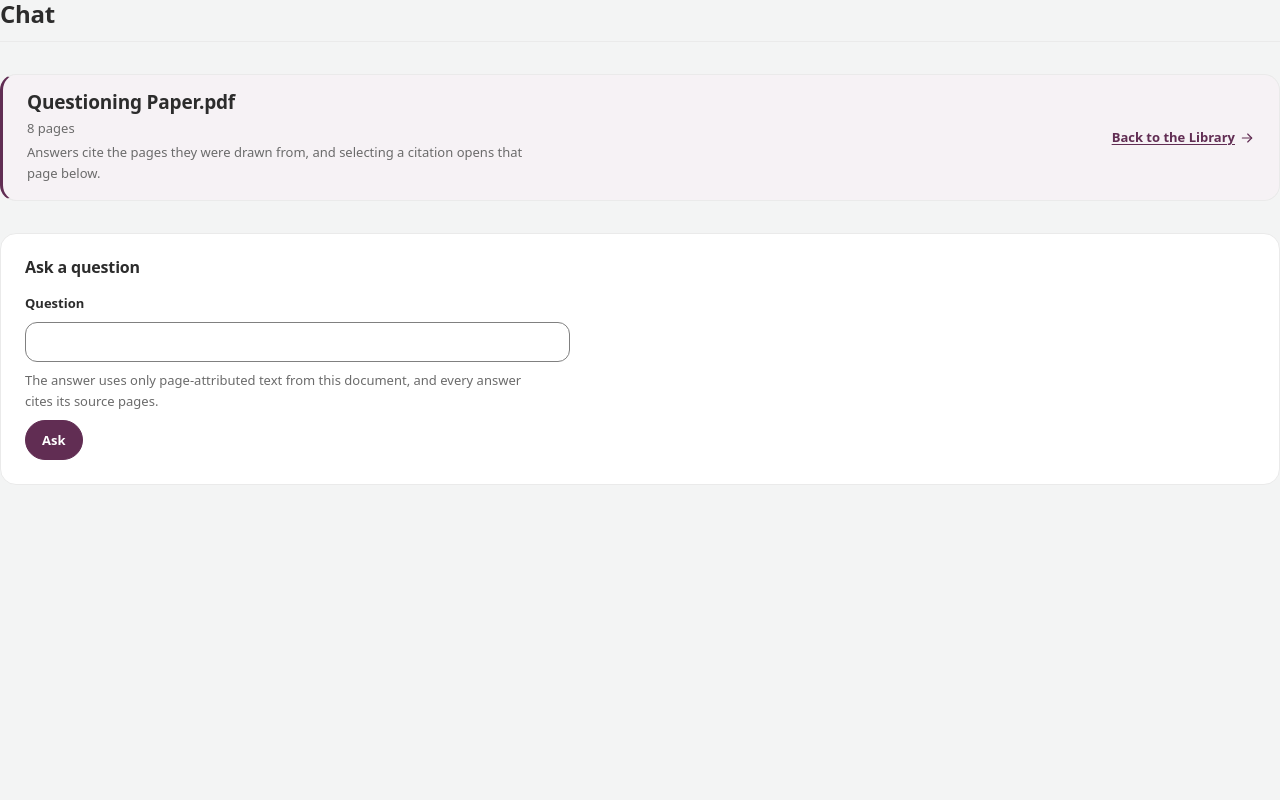
Test: Chat › shows the selected document, asks about it, and opens the cited page in the viewer
Expected: the heading "Questioning Paper.pdf" is shown, [27,89,235,115]
Expected: the text "8 pages" is shown, [27,119,75,137]
Type "What penalty applies to late filings?" into the field labelled "Question".
click(297, 342); type("What penalty applies to late filings?")  # box [25,322,570,362]
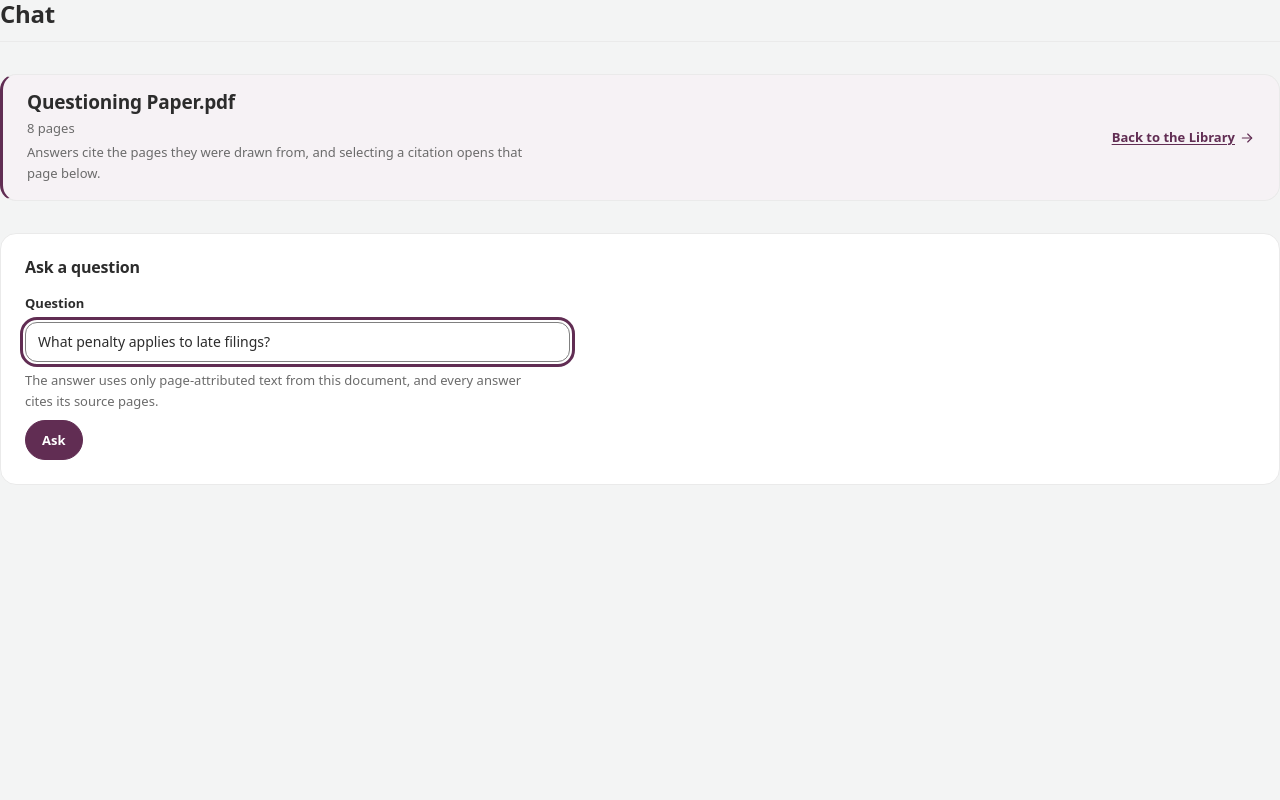
Click the button "Ask".
click(54, 440)  # box [25,420,82,460]
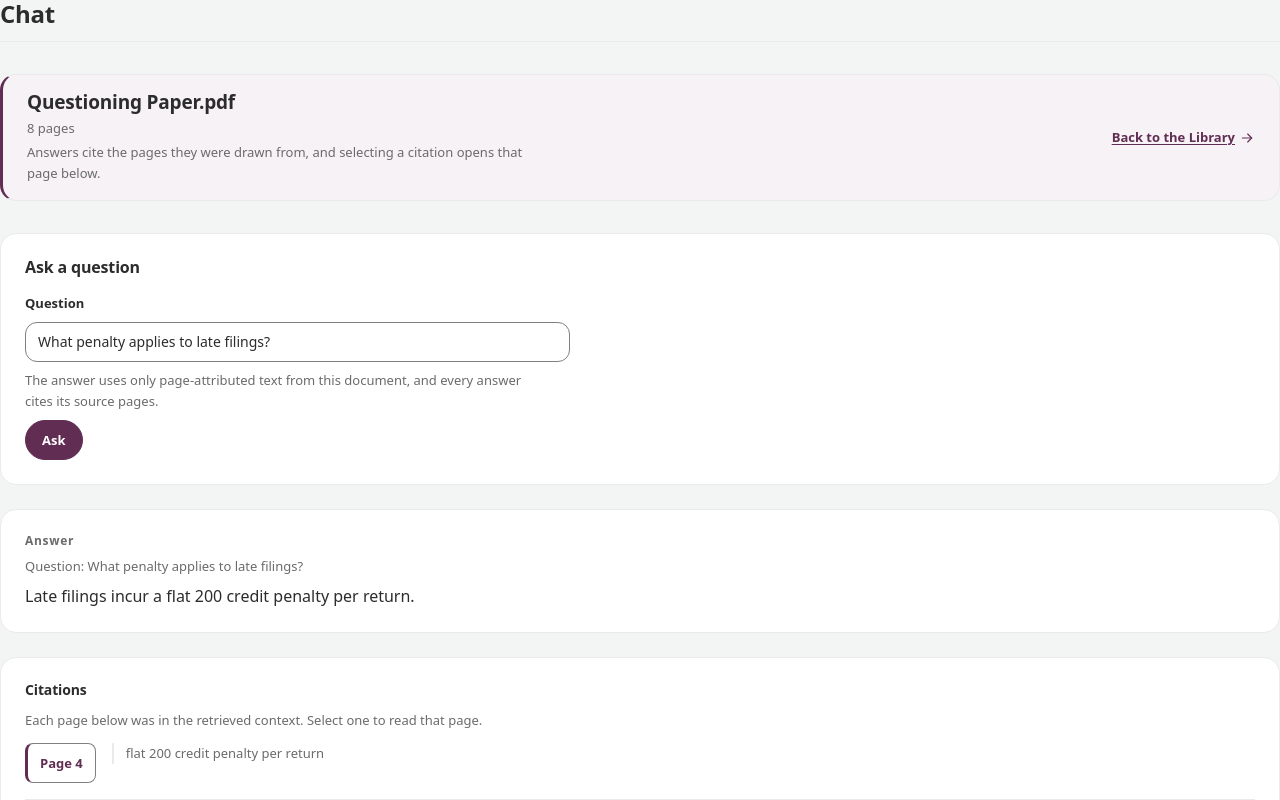
Expected: the text "Late filings incur a flat 200 credit penalty per return." is shown, [25,585,415,607]
Click the button "Page 4".
click(60, 763)  # box [25,743,96,783]
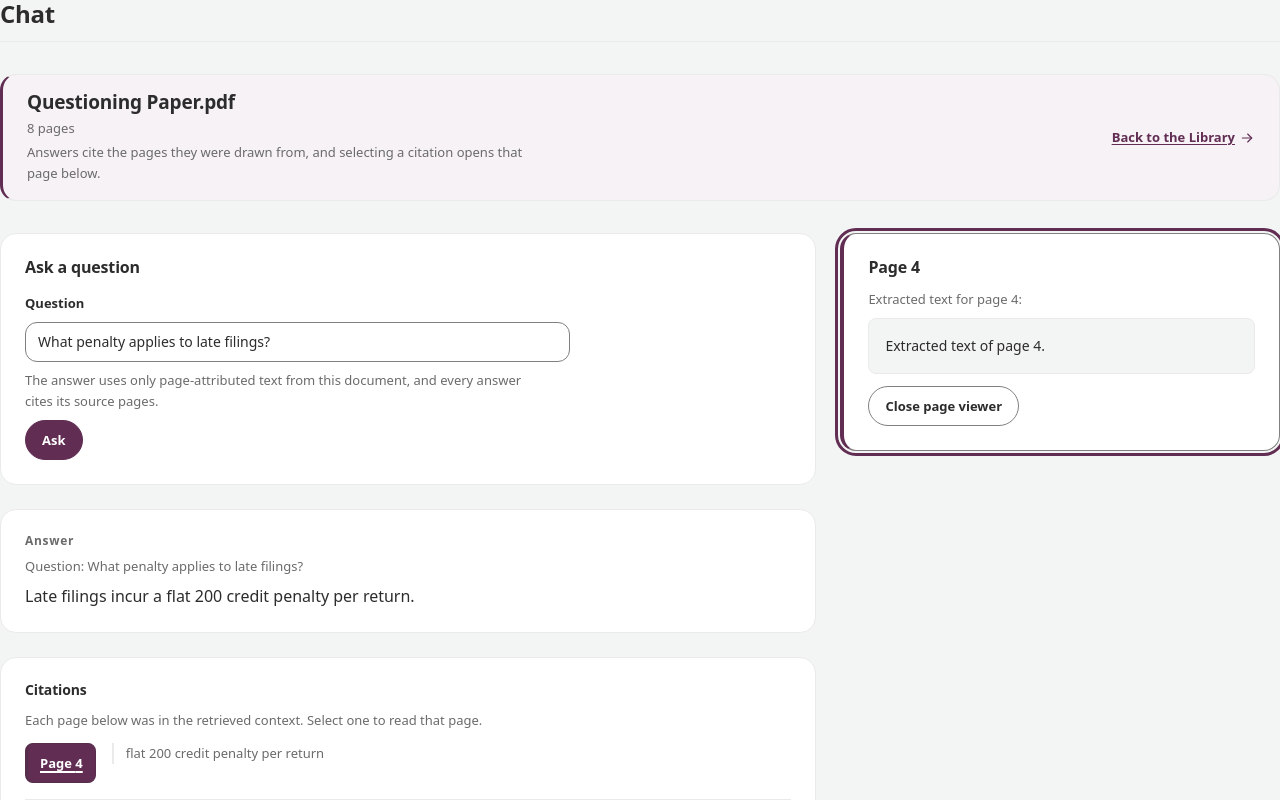
Expected: the text "Extracted text of page 4." is shown, [868,318,1255,374]
